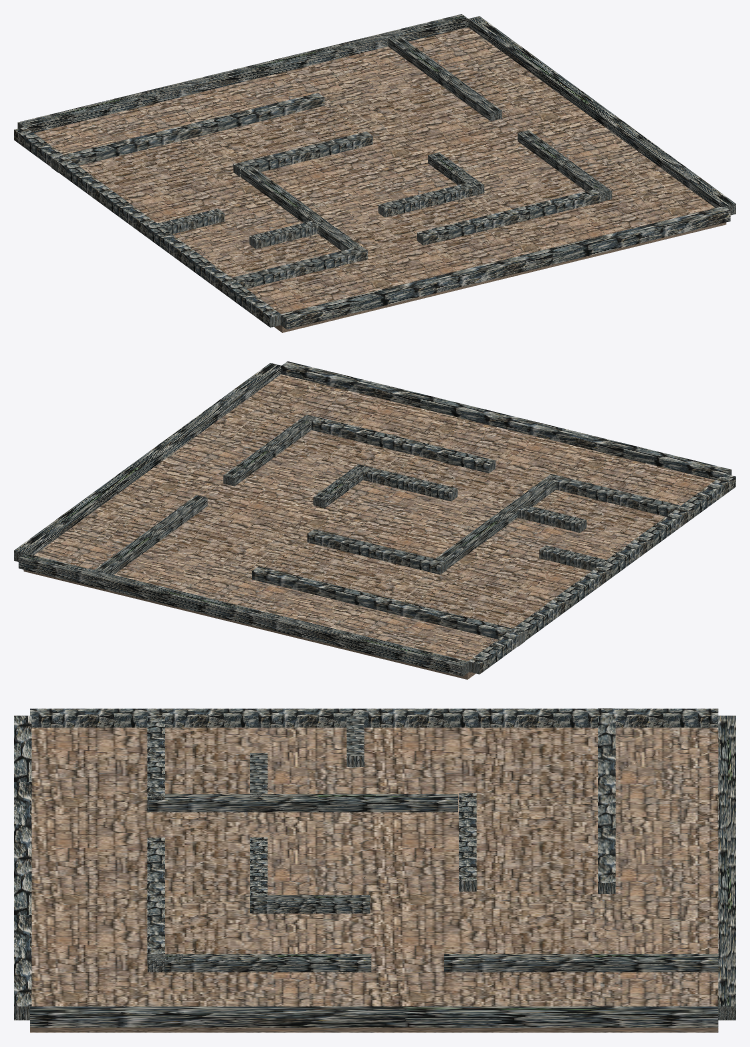
File: maze2.obj
The picture shows the model from 3 angles, top to bottom: view 1: azimuth 30°, elevation 25°; view 2: azimuth 150°, elevation 25°; view 3: azimuth 270°, elevation 25°; orthographic projection. The views are drawn at different scales.
Parts seen in each view (by area): view 1: Cube.004_Cube.001, Cube.001_Cube.009, Cube.005_Cube.008, Cube.003_Cube.007, Cube.007_Cube.006, Cube.002_Cube.016, Cube.014_Cube.018, Cube.015_Cube.019, Cube.019_Cube.023, Cube.008_Cube.010, Cube.016_Cube.020, Cube.013_Cube.015 (+4 smaller); view 2: Cube.004_Cube.001, Cube.005_Cube.008, Cube.001_Cube.009, Cube.003_Cube.007, Cube.007_Cube.006, Cube.002_Cube.016, Cube.014_Cube.018, Cube.019_Cube.023, Cube.008_Cube.010, Cube.015_Cube.019, Cube.016_Cube.020, Cube.013_Cube.015 (+4 smaller); view 3: Cube.004_Cube.001, Cube.007_Cube.006, Cube.003_Cube.007, Cube.019_Cube.023, Cube.005_Cube.008, Cube.001_Cube.009, Cube.015_Cube.019, Cube.013_Cube.015, Cube.002_Cube.016, Cube.011_Cube.013, Cube.014_Cube.018, Cube.008_Cube.010 (+4 smaller).
Boxes of the visible parts, bbox=[...] form: Cube.004_Cube.001: bbox=[34, 27, 726, 332]; Cube.001_Cube.009: bbox=[280, 206, 730, 329]; Cube.005_Cube.008: bbox=[17, 14, 468, 132]; Cube.003_Cube.007: bbox=[14, 127, 281, 327]; Cube.007_Cube.006: bbox=[468, 16, 735, 215]; Cube.002_Cube.016: bbox=[51, 93, 324, 172]; Cube.014_Cube.018: bbox=[417, 189, 600, 245]; Cube.015_Cube.019: bbox=[388, 35, 501, 121]; Cube.019_Cube.023: bbox=[241, 166, 365, 250]; Cube.008_Cube.010: bbox=[233, 131, 372, 176]; Cube.016_Cube.020: bbox=[229, 246, 367, 288]; Cube.013_Cube.015: bbox=[517, 130, 598, 190]; Cube.004_Cube.001: bbox=[23, 374, 715, 679]; Cube.005_Cube.008: bbox=[18, 553, 469, 676]; Cube.001_Cube.009: bbox=[281, 361, 731, 479]; Cube.003_Cube.007: bbox=[469, 474, 735, 674]; Cube.007_Cube.006: bbox=[14, 363, 281, 561]; Cube.002_Cube.016: bbox=[252, 566, 524, 646]; Cube.014_Cube.018: bbox=[311, 417, 495, 473]; Cube.019_Cube.023: bbox=[435, 475, 555, 568]; Cube.008_Cube.010: bbox=[307, 529, 446, 574]; Cube.015_Cube.019: bbox=[94, 495, 207, 574]; Cube.016_Cube.020: bbox=[545, 474, 681, 516]; Cube.013_Cube.015: bbox=[223, 419, 311, 486]; Cube.004_Cube.001: bbox=[30, 727, 718, 1032]; Cube.007_Cube.006: bbox=[30, 1006, 718, 1027]; Cube.003_Cube.007: bbox=[30, 708, 718, 727]; Cube.019_Cube.023: bbox=[148, 794, 457, 812]; Cube.005_Cube.008: bbox=[718, 715, 735, 1020]; Cube.001_Cube.009: bbox=[14, 715, 31, 1020]; Cube.015_Cube.019: bbox=[444, 954, 719, 972]; Cube.013_Cube.015: bbox=[164, 954, 371, 972]; Cube.002_Cube.016: bbox=[598, 708, 615, 893]; Cube.011_Cube.013: bbox=[250, 895, 370, 913]; Cube.014_Cube.018: bbox=[147, 837, 164, 964]; Cube.008_Cube.010: bbox=[459, 793, 476, 891].
Bounding box in the file's own units: 20.76 × 0.792 × 20.74.
